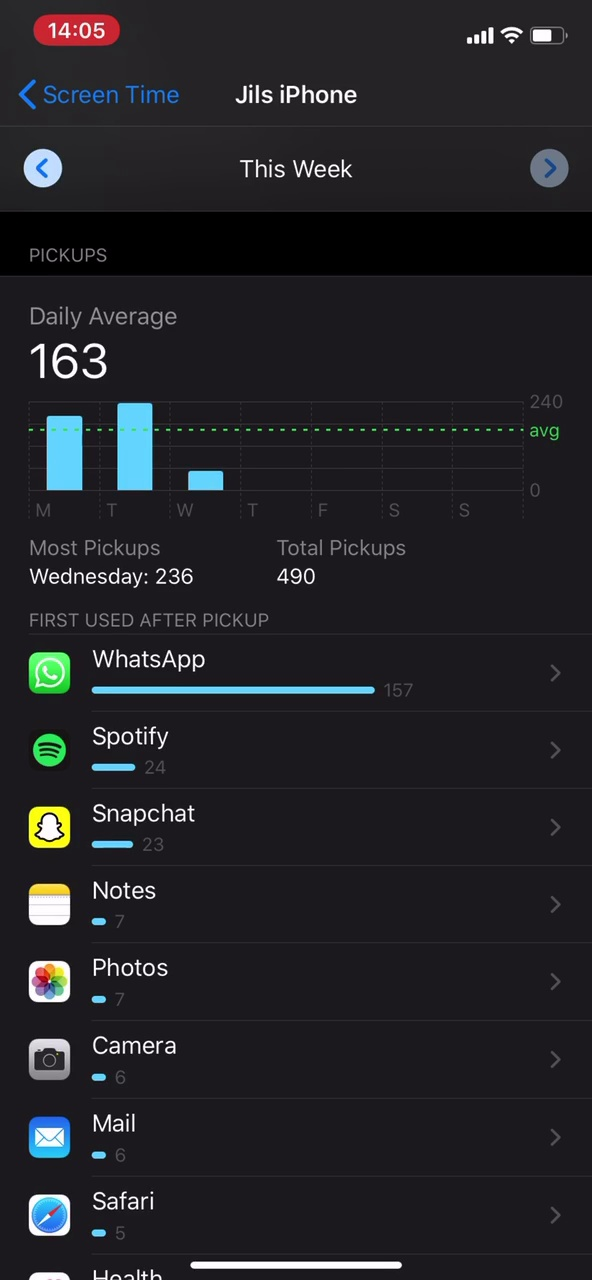pick_app: (26, 642, 397, 711), (23, 789, 217, 860), (22, 719, 214, 780), (22, 1100, 178, 1174), (22, 1183, 192, 1250), (23, 946, 198, 1011), (23, 1027, 203, 1089), (23, 869, 176, 936)
pick_over: (23, 524, 456, 602)
week: (227, 150, 364, 195)
